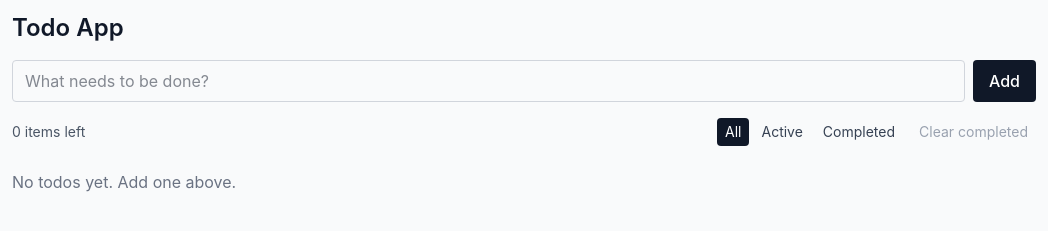
TodoPage › keeps the old title when the edit is blank or cancelled
Type "Buy milk" into the field named "New todo" at [488, 81], box [12,60,965,102]
Click the button "Add" at [1004, 81], box [973,60,1036,102]
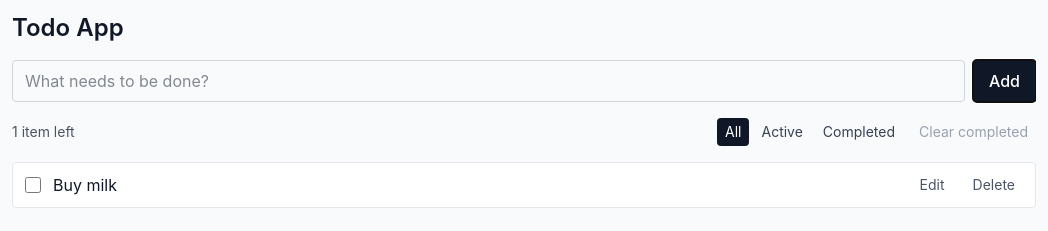
Click the button named "Edit \"Buy milk\"" at [932, 185], box [912,171,953,199]
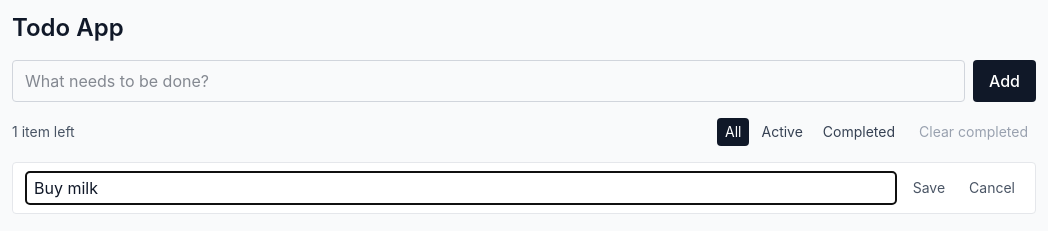
Clear the field named "Edit \"Buy milk\"" at [461, 188], box [25,171,897,205]
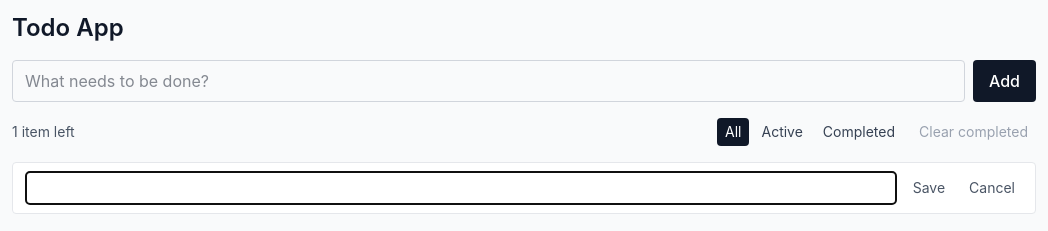
Click the button "Save" at [929, 188], box [905,174,953,202]
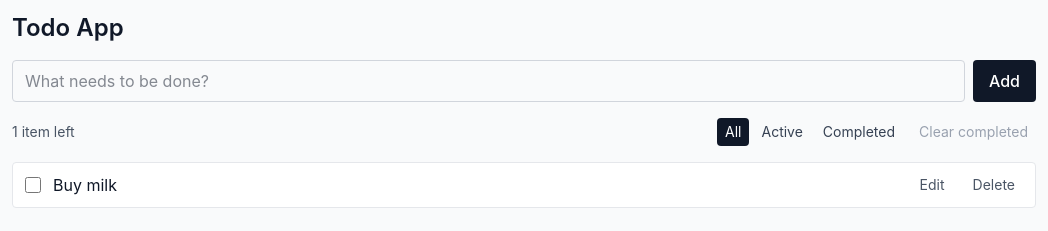
Expected: the text "Buy milk" is shown, [53,175,117,195]
Click the button named "Edit \"Buy milk\"" at [932, 185], box [912,171,953,199]
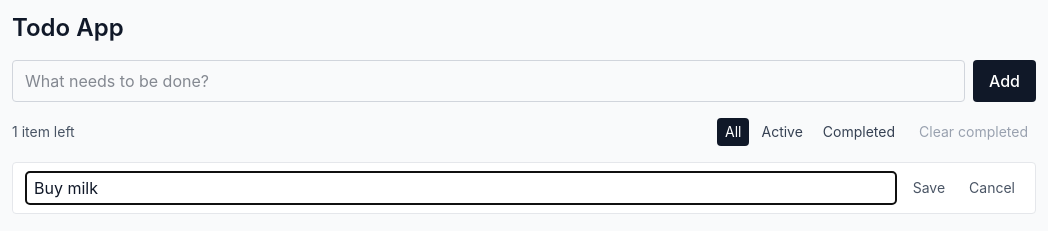
Type " and eggs" into the field named "Edit \"Buy milk\"" at [461, 188], box [25,171,897,205]
Then press Escape
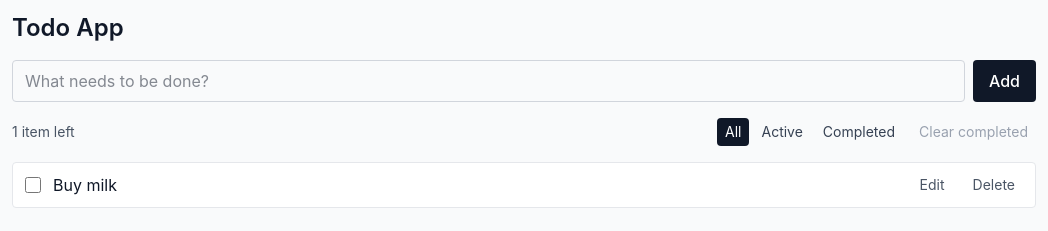
Expected: the text "Buy milk" is shown, [53,175,117,195]
